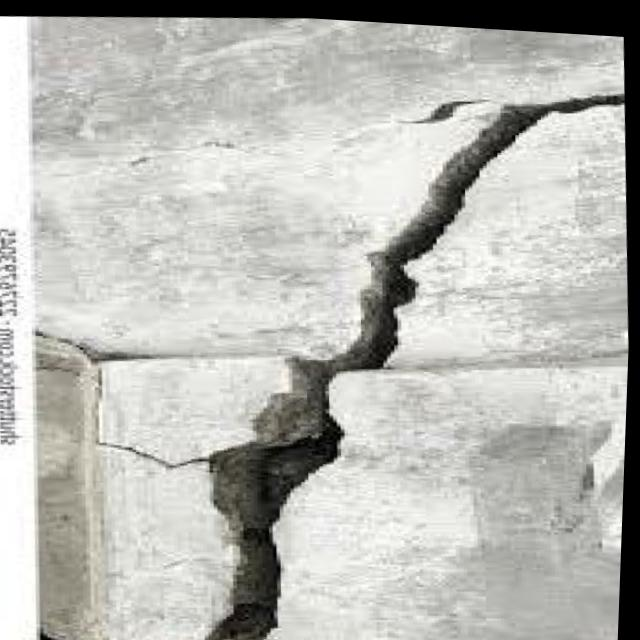Crack: (187, 348, 379, 640), (347, 83, 544, 366)
